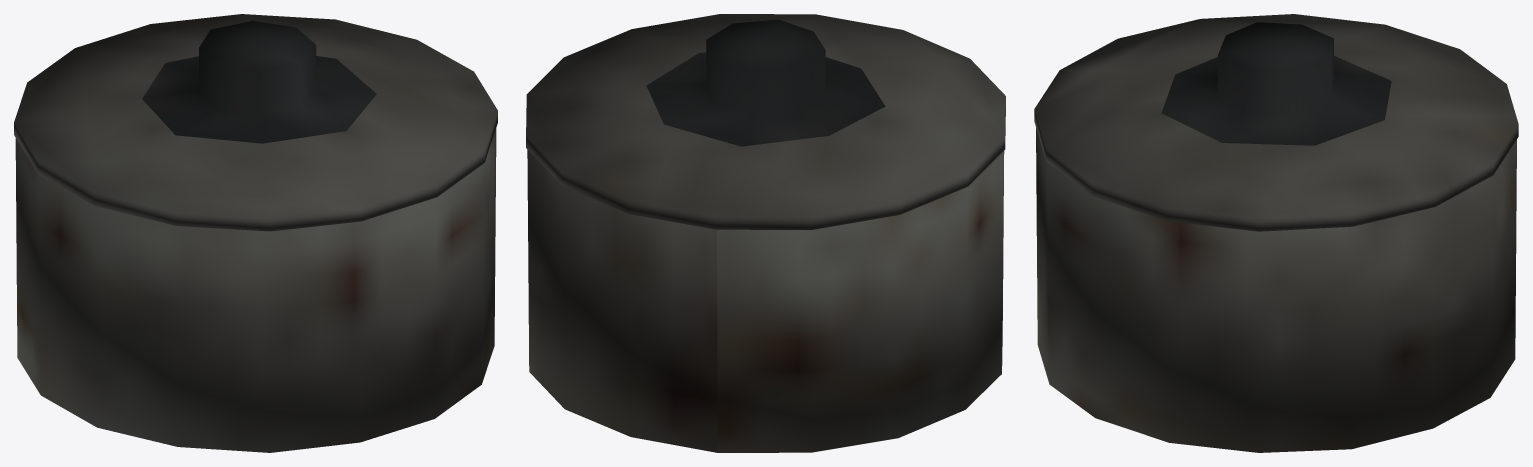
The model's file is SM_EC_Pan_1.fbx.
3 renders of one model, left to right at view 1: azimuth 30°, elevation 25°; view 2: azimuth 150°, elevation 25°; view 3: azimuth 270°, elevation 25°, orthographic.
Visible parts, largest first — view 1: SM_EC_Pan_1, SM_EC_Pan_Lid_1; view 2: SM_EC_Pan_1, SM_EC_Pan_Lid_1; view 3: SM_EC_Pan_1, SM_EC_Pan_Lid_1.
Boxes of the visible parts, left/top/right/bottom form: SM_EC_Pan_1: left=15, top=128, right=496, bottom=452; SM_EC_Pan_Lid_1: left=14, top=14, right=497, bottom=231; SM_EC_Pan_1: left=527, top=150, right=1004, bottom=452; SM_EC_Pan_Lid_1: left=526, top=14, right=1005, bottom=229; SM_EC_Pan_1: left=1036, top=128, right=1516, bottom=452; SM_EC_Pan_Lid_1: left=1034, top=14, right=1518, bottom=231.
Bounding box in the file's own units: 0.3596 × 0.3596 × 0.2537.
